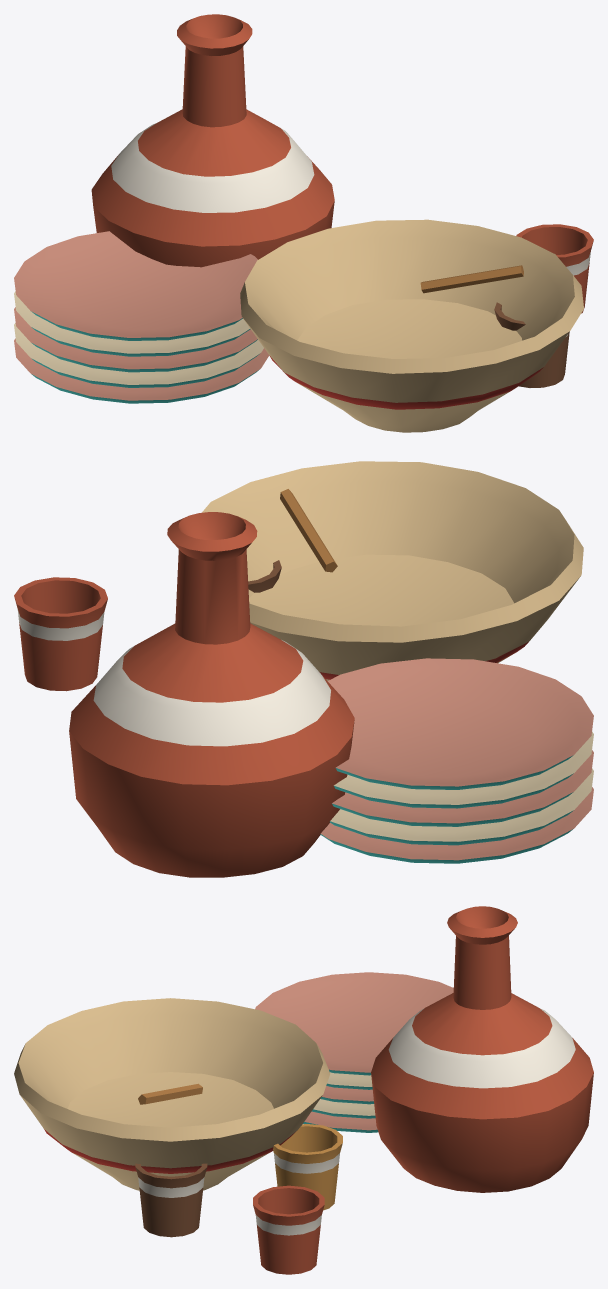
The model's file is deco_tableware_set.fbx.
The picture shows the model from 3 angles, top to bottom: view 1: azimuth 30°, elevation 25°; view 2: azimuth 150°, elevation 25°; view 3: azimuth 270°, elevation 25°; orthographic projection. The views are drawn at different scales.
Parts seen in each view (by area): view 1: Tableware_Set_Set; view 2: Tableware_Set_Set; view 3: Tableware_Set_Set.
Boxes of the visible parts, x1,y1,x2,y2 form: Tableware_Set_Set: (14, 14, 593, 432); Tableware_Set_Set: (14, 461, 593, 877); Tableware_Set_Set: (14, 906, 593, 1274).
Bounding box in the file's own units: 96.32 × 46.8 × 102.
